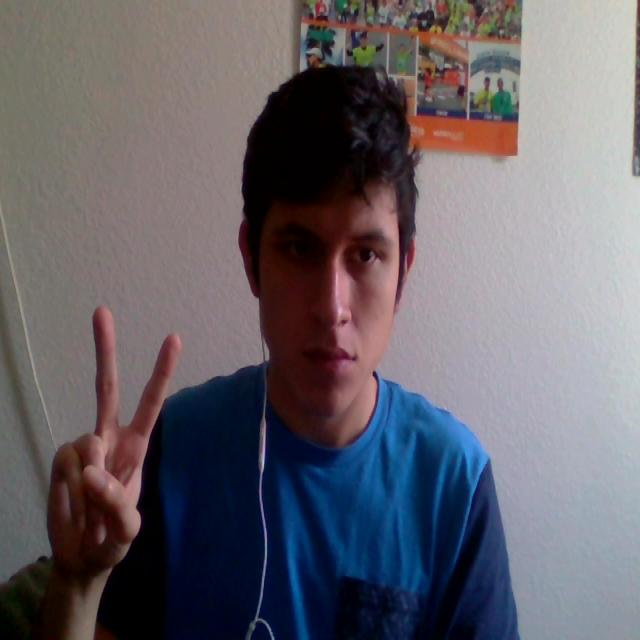V: (28, 266, 190, 598)
